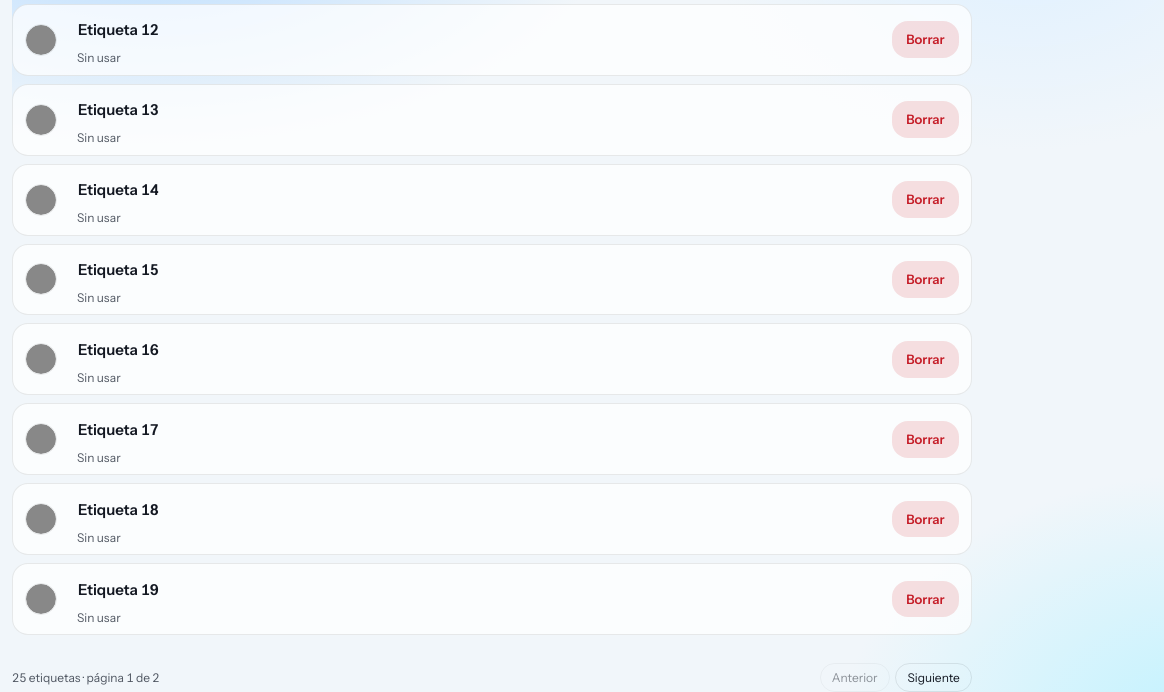
Test: Etiquetas · buscar y paginar › buscar desde la página 2 no deja la lista vacía
(page scrolled)
Click the button "Siguiente": (934, 678) [895,663,972,691]
(page scrolled)
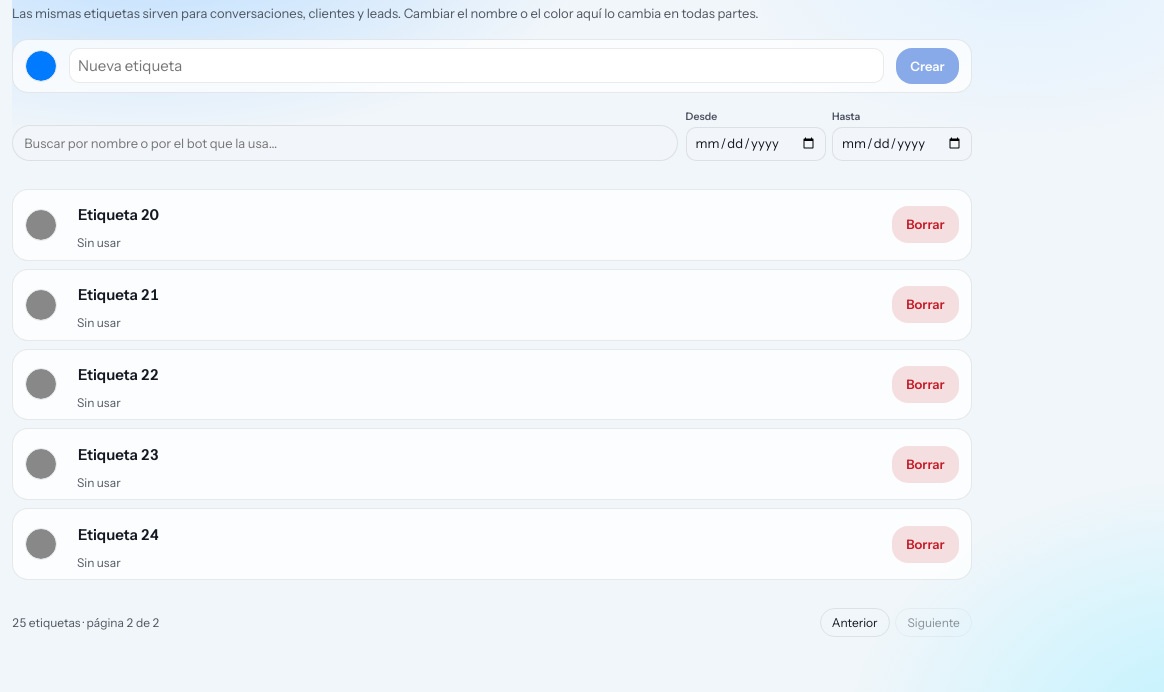
Check: the field showing "Etiqueta 20" is shown, box [69,198,880,233]
In the search field: (345, 143) [12,126,678,161], type "03"
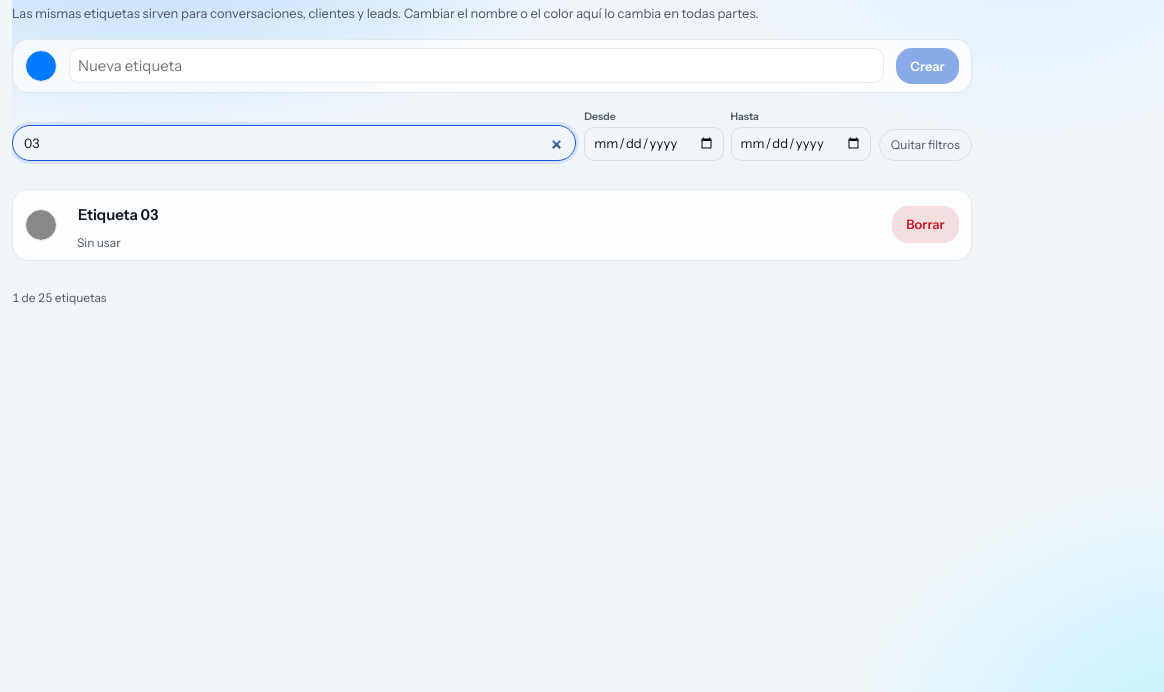
Check: the field showing "Etiqueta 03" is shown, box [69,198,880,233]
